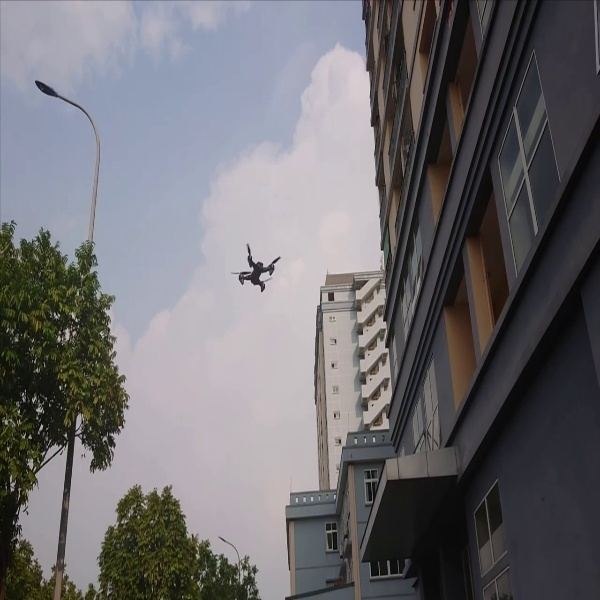drone: (231, 240, 282, 298)
